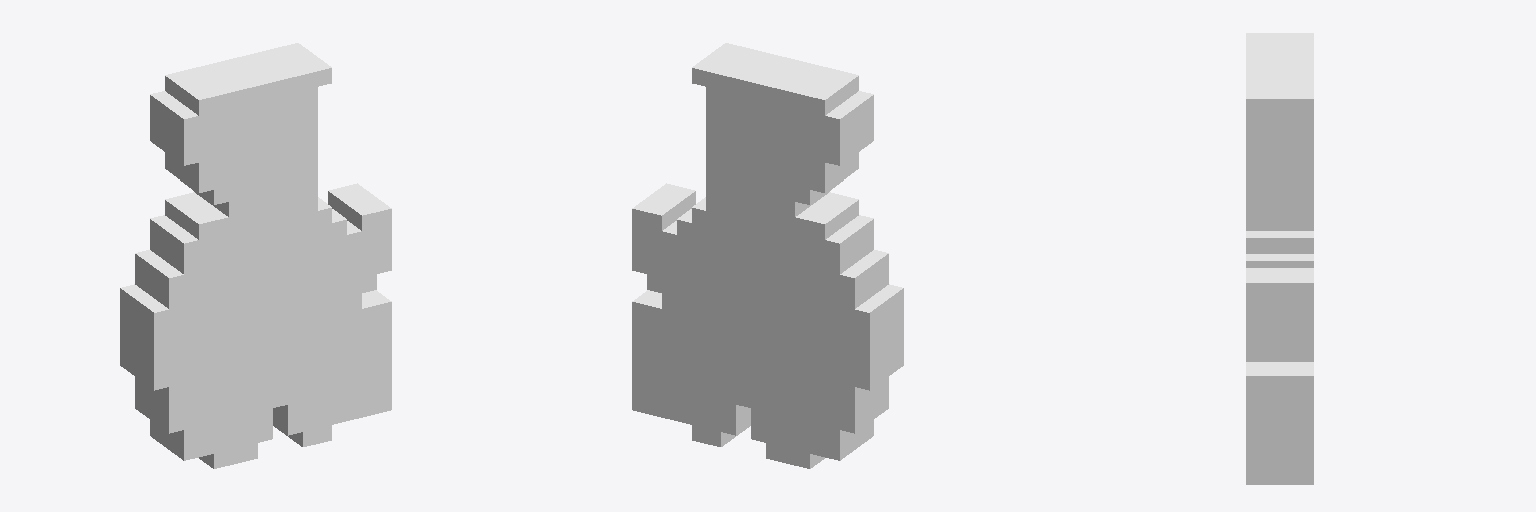
File: Takeshi_Jump.obj
The picture shows the model from 3 angles: view 1: azimuth 30°, elevation 25°; view 2: azimuth 150°, elevation 25°; view 3: azimuth 270°, elevation 25°; orthographic projection.
Visible parts, largest first — view 1: object 1; view 2: object 1; view 3: object 1.
Part boxes in pixels (bbox=[...]): object 1: bbox=[120, 43, 391, 468]; object 1: bbox=[632, 43, 903, 468]; object 1: bbox=[1246, 33, 1313, 484].
Size of the model in its own units: 1.6 by 2.4 by 0.4.